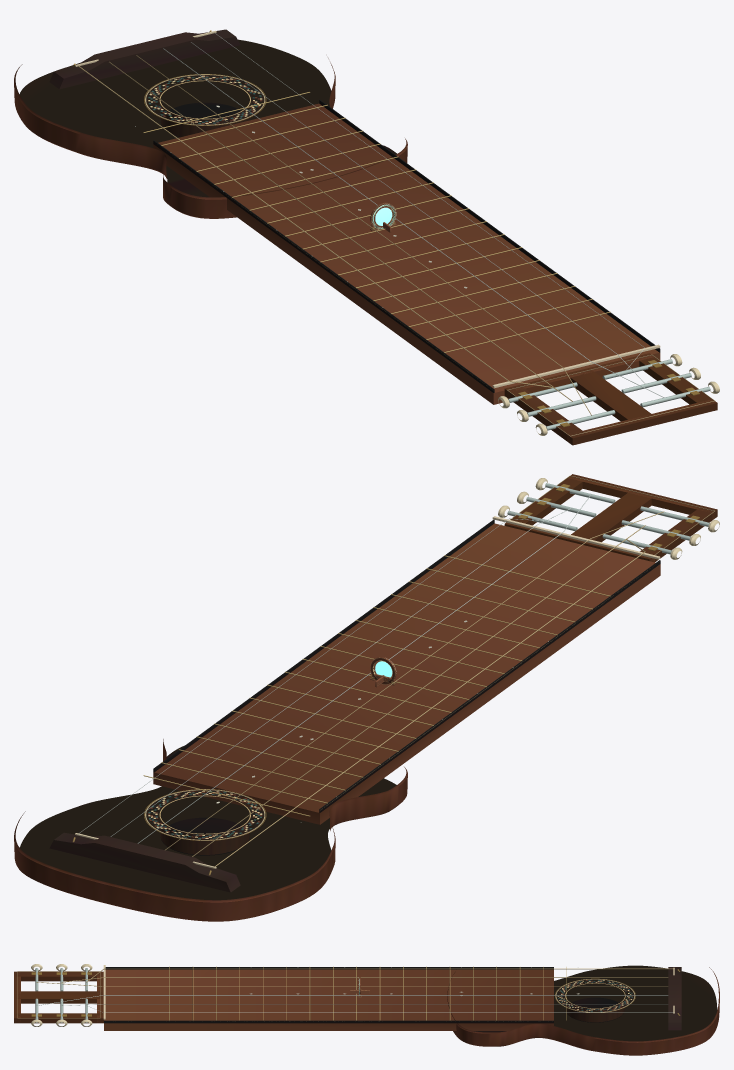
File: mundo-guitarra-mkFwakRY.glb
3 renders of one model, top to bottom at view 1: azimuth 30°, elevation 25°; view 2: azimuth 150°, elevation 25°; view 3: azimuth 270°, elevation 25°, orthographic. The views are drawn at different scales.
Visible parts, largest first — view 1: Aros y mástil, Cavidad acústica, Diapasón y puente, Trastes, bordes y bordones, Nácar y cenefas, Primas y mecánica; view 2: Aros y mástil, Cavidad acústica, Diapasón y puente, Trastes, bordes y bordones, Nácar y cenefas, Primas y mecánica; view 3: Aros y mástil, Cavidad acústica, Diapasón y puente, Trastes, bordes y bordones, Primas y mecánica, Nácar y cenefas.
Part boxes in pixels (box(x1,y1,x2,y2)): Aros y mástil: box(14, 58, 717, 445); Cavidad acústica: box(19, 39, 396, 197); Diapasón y puente: box(49, 29, 660, 392); Trastes, bordes y bordones: box(72, 30, 699, 427); Nácar y cenefas: box(75, 30, 719, 436); Primas y mecánica: box(163, 33, 710, 430); Aros y mástil: box(14, 474, 717, 921); Cavidad acústica: box(19, 745, 396, 900); Diapasón y puente: box(49, 519, 660, 892); Trastes, bordes y bordones: box(72, 484, 699, 875); Nácar y cenefas: box(75, 475, 719, 868); Primas y mecánica: box(79, 483, 709, 843); Aros y mástil: box(14, 967, 719, 1055); Cavidad acústica: box(474, 965, 717, 1041); Diapasón y puente: box(104, 967, 681, 1030); Trastes, bordes y bordones: box(31, 966, 680, 1020); Primas y mecánica: box(35, 968, 672, 1022); Nácar y cenefas: box(17, 964, 674, 1026).
Size of the model in its own units: 62.53 by 10.36 by 204.
